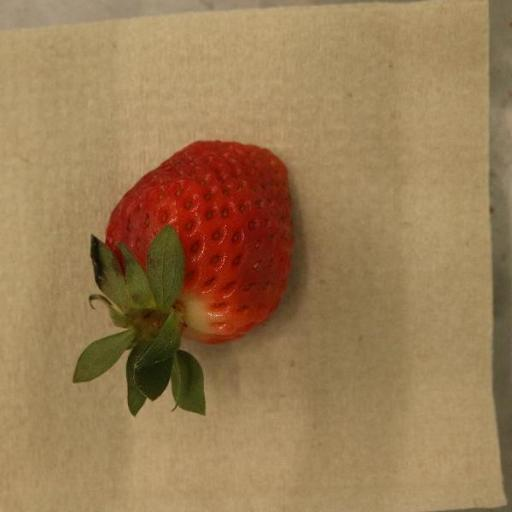Strawberry: (72, 141, 294, 418)
